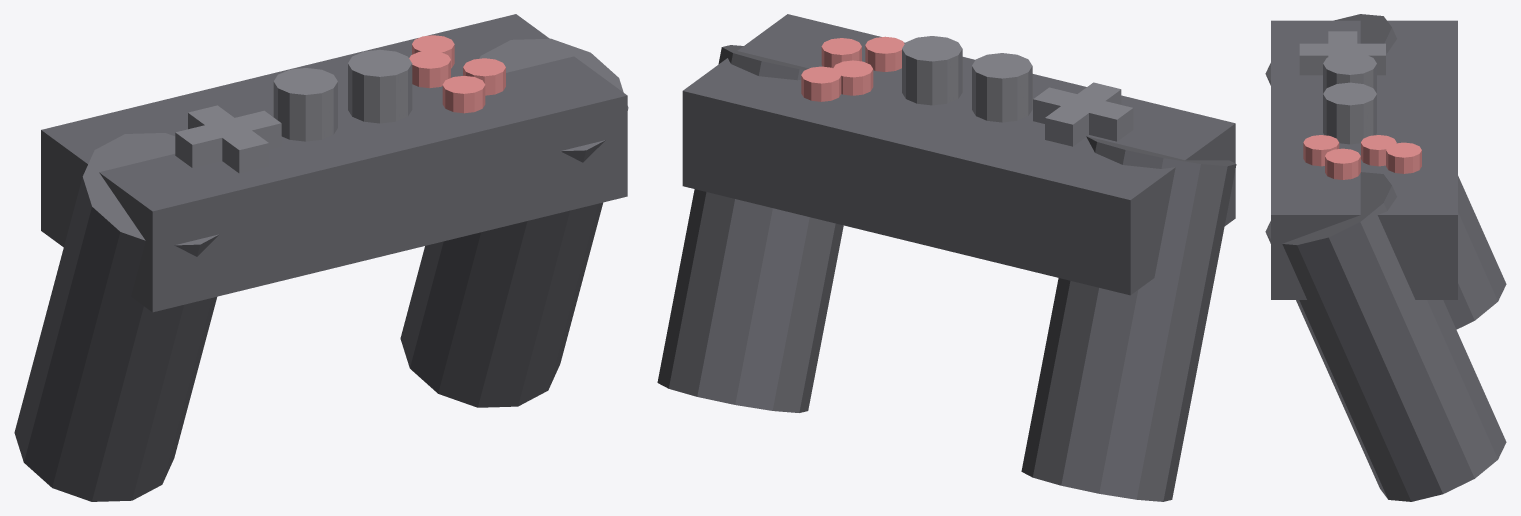
The model's file is gamepad.glb.
3 renders of one model, left to right at view 1: azimuth 30°, elevation 25°; view 2: azimuth 150°, elevation 25°; view 3: azimuth 270°, elevation 25°, orthographic. The views are drawn at different scales.
Parts seen in each view (by area): view 1: gamepad; view 2: gamepad; view 3: gamepad.
Part boxes in pixels (x1=…): gamepad: x1=14, y1=14, x2=628, y2=501; gamepad: x1=657, y1=14, x2=1236, y2=501; gamepad: x1=1265, y1=14, x2=1506, y2=501.
Bounding box in the file's own units: 0.142 × 0.1015 × 0.0671.
